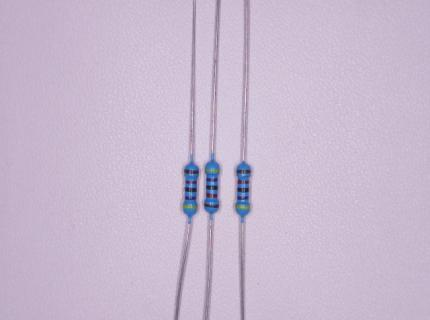Black band: (206, 185, 218, 190), (185, 187, 197, 192), (237, 188, 249, 192), (185, 196, 196, 200)
Brown band: (184, 169, 199, 175), (204, 203, 219, 208), (236, 170, 251, 174)
Red band: (206, 193, 218, 198), (237, 179, 249, 184), (185, 180, 197, 184)
Violet band: (206, 178, 218, 182), (237, 196, 249, 200)
Yellow band: (204, 168, 220, 173), (182, 205, 197, 210), (235, 205, 250, 210)
